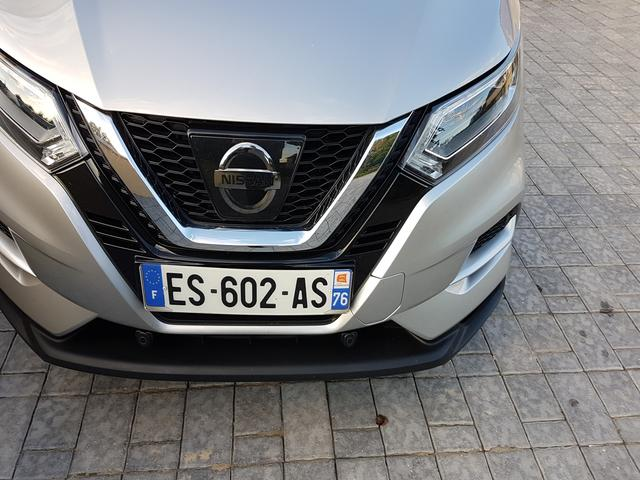Quashquai: (129, 229, 370, 336)
